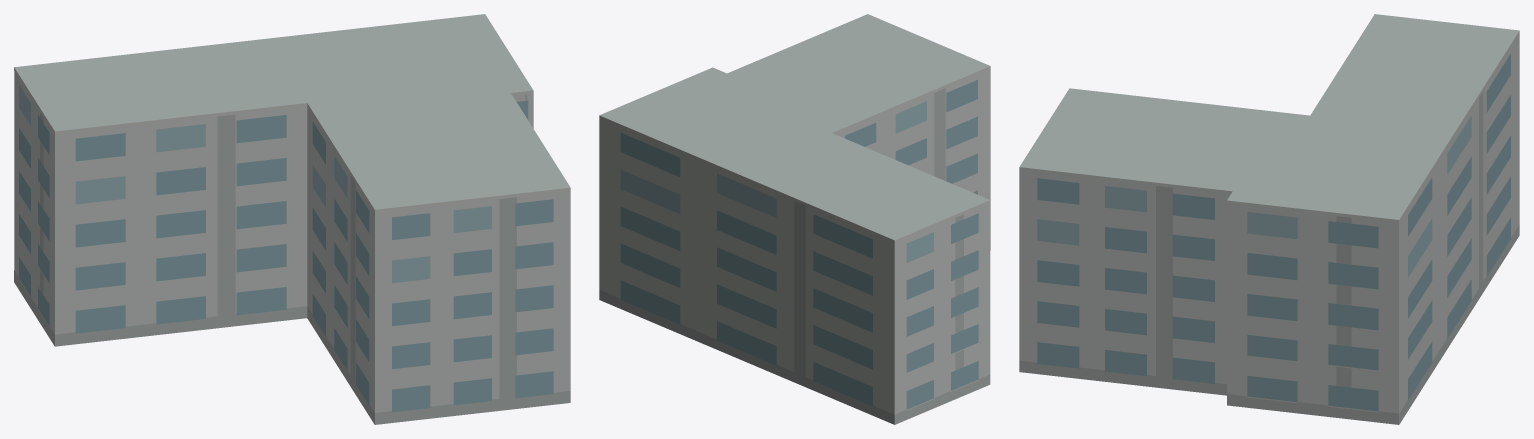
Rendered from residential-d2b2a995-bb4d-4b36-a771-ef9138fb18da.glb.
The picture shows the model from 3 angles, left to right: view 1: azimuth 30°, elevation 25°; view 2: azimuth 150°, elevation 25°; view 3: azimuth 270°, elevation 25°; orthographic projection. The views are drawn at different scales.
Parts seen in each view (by area): view 1: residential-d2b2a995-bb4d-4b36-a771-ef9138fb18da.tmp; view 2: residential-d2b2a995-bb4d-4b36-a771-ef9138fb18da.tmp; view 3: residential-d2b2a995-bb4d-4b36-a771-ef9138fb18da.tmp.
Part boxes in pixels (x1,y1,x2,y2): residential-d2b2a995-bb4d-4b36-a771-ef9138fb18da.tmp: [14, 14, 570, 424]; residential-d2b2a995-bb4d-4b36-a771-ef9138fb18da.tmp: [599, 14, 990, 424]; residential-d2b2a995-bb4d-4b36-a771-ef9138fb18da.tmp: [1019, 14, 1519, 424].
Bounding box in the file's own units: 32.88 × 15.25 × 33.75.
